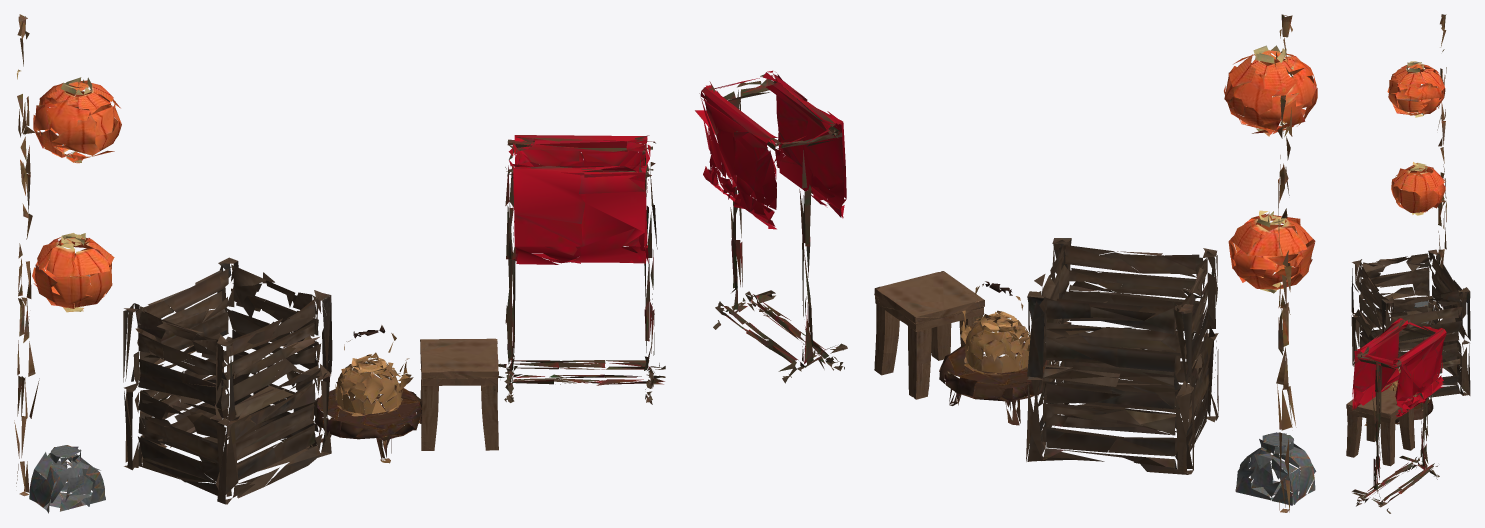
File: stand.glb
3 views of the same model, side by side, from view 1: azimuth 30°, elevation 25°; view 2: azimuth 150°, elevation 25°; view 3: azimuth 270°, elevation 25° (orthographic). The views are drawn at different scales.
Parts seen in each view (by area): view 1: prop_market_lantern_1, prop_market_lantern_2, prop_market_lantern_5, prop_market_lantern_3, prop_market_lantern_4; view 2: prop_market_lantern_1, prop_market_lantern_2, prop_market_lantern_5, prop_market_lantern_4, prop_market_lantern_3; view 3: prop_market_lantern_1, prop_market_lantern_2, prop_market_lantern_5, prop_market_lantern_4, prop_market_lantern_3.
Boxes of the visible parts, left/top/right/bottom form: prop_market_lantern_1: left=123, top=257, right=332, bottom=504; prop_market_lantern_2: left=498, top=135, right=665, bottom=404; prop_market_lantern_5: left=14, top=14, right=121, bottom=513; prop_market_lantern_3: left=314, top=325, right=422, bottom=463; prop_market_lantern_4: left=420, top=338, right=498, bottom=450; prop_market_lantern_1: left=1026, top=238, right=1218, bottom=474; prop_market_lantern_2: left=695, top=70, right=847, bottom=383; prop_market_lantern_5: left=1224, top=14, right=1317, bottom=512; prop_market_lantern_4: left=874, top=271, right=984, bottom=399; prop_market_lantern_3: left=939, top=281, right=1054, bottom=425; prop_market_lantern_1: left=1351, top=249, right=1470, bottom=397; prop_market_lantern_2: left=1352, top=318, right=1446, bottom=513; prop_market_lantern_5: left=1387, top=14, right=1446, bottom=324; prop_market_lantern_4: left=1346, top=389, right=1414, bottom=466; prop_market_lantern_3: left=1364, top=347, right=1433, bottom=425.
Size of the model in its own units: 271 by 205 by 73.82.
1 material, 1 textured.
